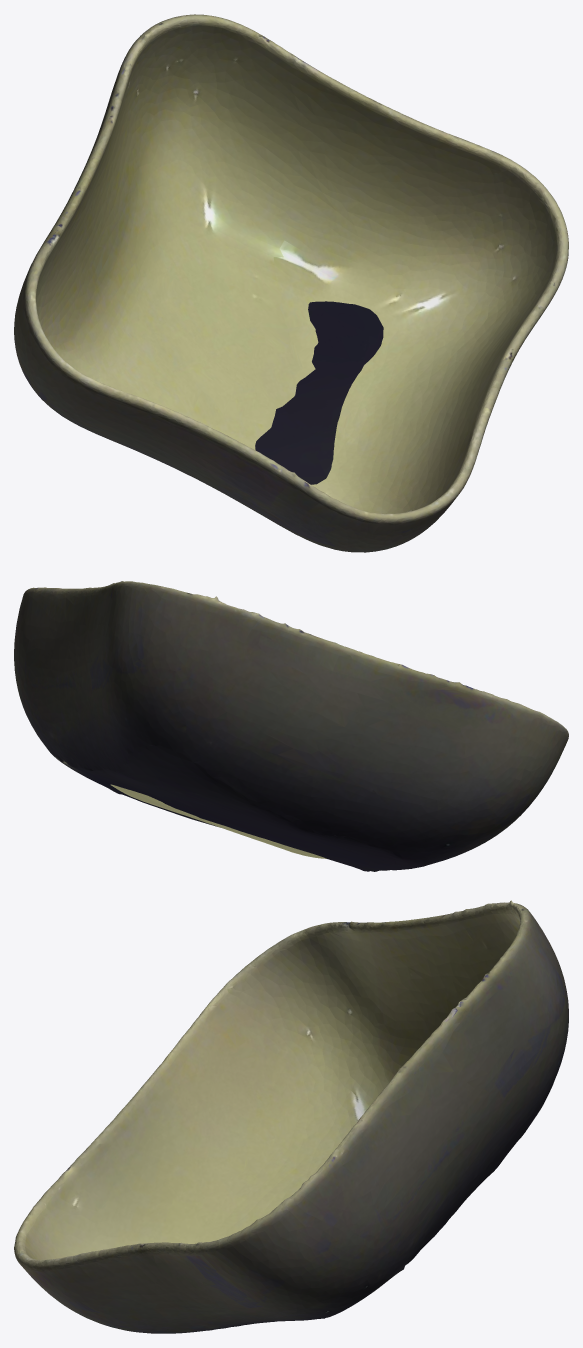
File: Schuessel_leer.fbx
3 views of the same model, one above another, from view 1: azimuth 30°, elevation 25°; view 2: azimuth 150°, elevation 25°; view 3: azimuth 270°, elevation 25° (orthographic). The views are drawn at different scales.
Visible parts, largest first — view 1: Schuessel_leer_test_tex_high; view 2: Schuessel_leer_test_tex_high; view 3: Schuessel_leer_test_tex_high.
Part boxes in pixels (box(x1,y1,x2,y2)): Schuessel_leer_test_tex_high: box(14, 14, 568, 552); Schuessel_leer_test_tex_high: box(14, 581, 568, 871); Schuessel_leer_test_tex_high: box(14, 900, 568, 1333).
Size of the model in its own units: 18.91 by 13.41 by 16.53.
